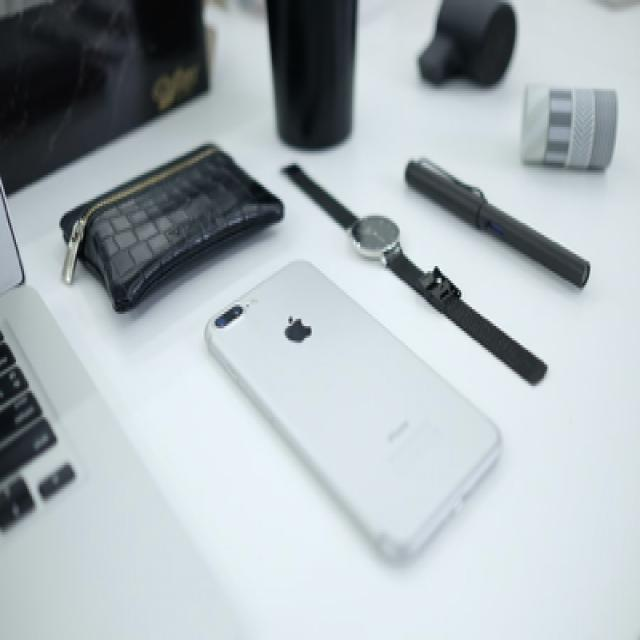cellphone: (203, 256, 502, 561)
